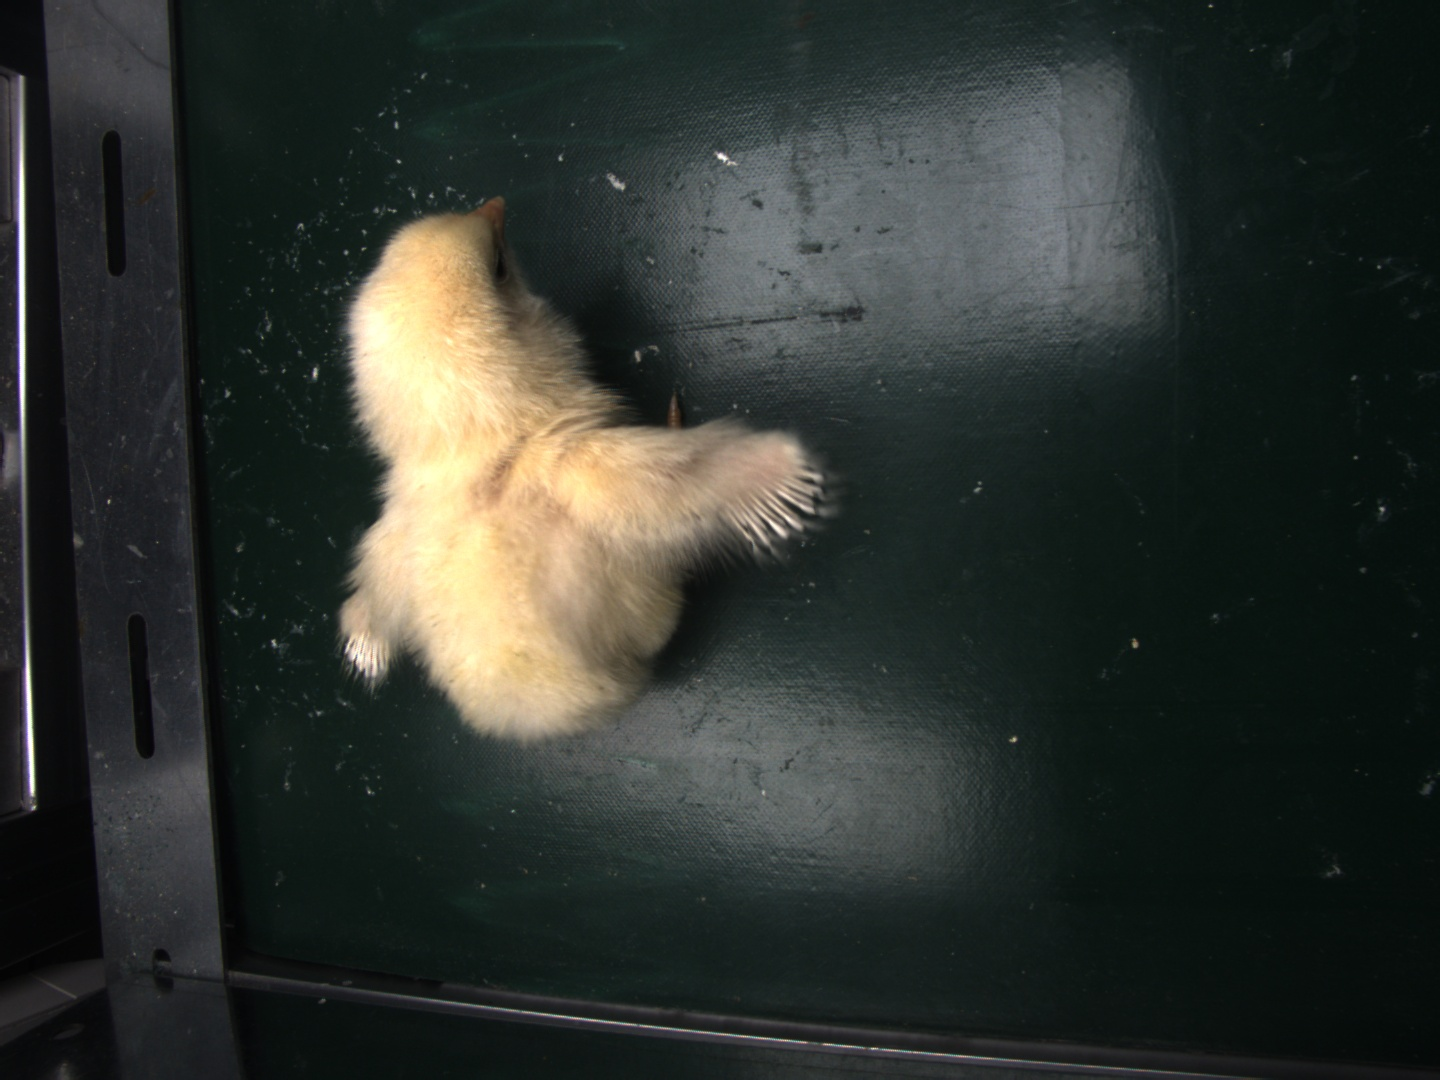male: (725, 463, 822, 545)
